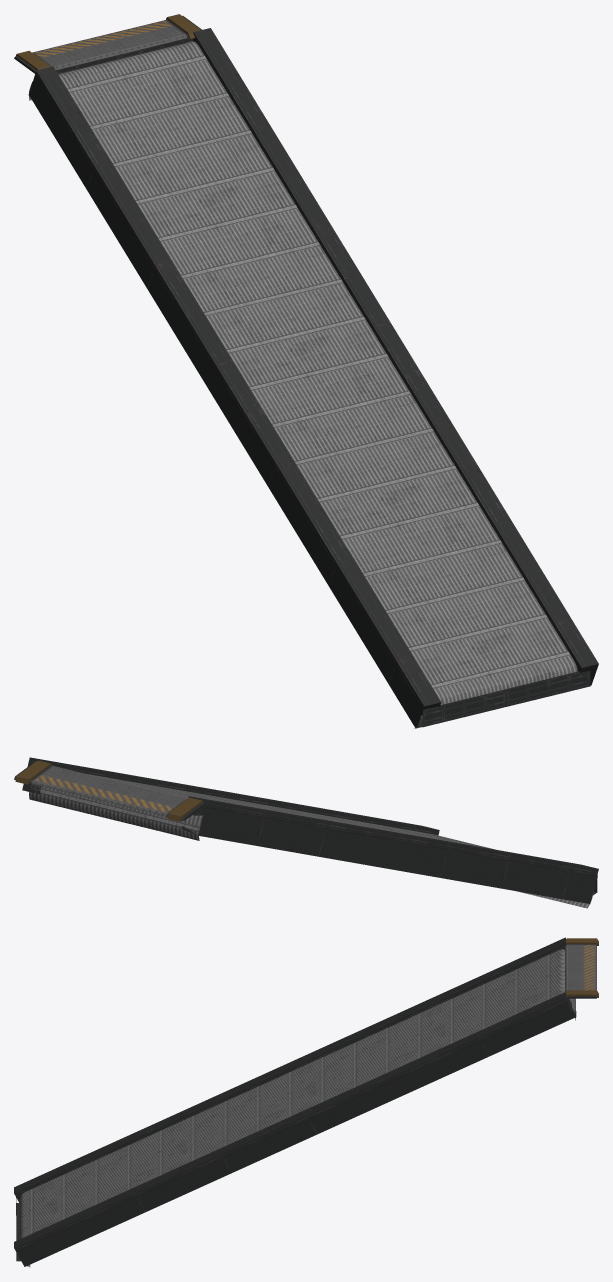
Rendered from Subway_Stairs_Escalator2_L1.fbx.
3 renders of one model, top to bottom at view 1: azimuth 30°, elevation 25°; view 2: azimuth 150°, elevation 25°; view 3: azimuth 270°, elevation 25°, orthographic. The views are drawn at different scales.
Visible parts, largest first — view 1: polySurface139; view 2: polySurface139; view 3: polySurface139.
Part boxes in pixels (x1,y1,x2,y2): polySurface139: (14, 14, 598, 728); polySurface139: (14, 757, 598, 908); polySurface139: (14, 937, 598, 1267).
Size of the model in its own units: 104 by 218 by 424.
